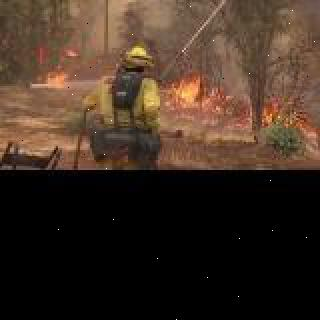fire: (147, 0, 320, 96), (166, 66, 318, 142), (40, 60, 72, 92), (64, 44, 76, 54)
